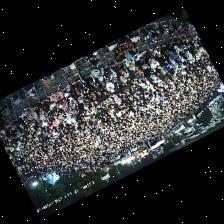person: (76, 66, 95, 86), (145, 52, 160, 70), (142, 62, 156, 78), (174, 41, 187, 58), (69, 77, 81, 94), (37, 97, 50, 111), (128, 79, 140, 94), (167, 49, 180, 62), (111, 61, 124, 74), (28, 107, 37, 124), (81, 83, 91, 98), (50, 91, 63, 102), (134, 52, 144, 66), (92, 67, 103, 79), (128, 66, 139, 77), (125, 57, 135, 69), (120, 83, 130, 95), (66, 95, 76, 107), (151, 43, 160, 56), (49, 108, 59, 119), (104, 64, 111, 79), (92, 83, 100, 96), (165, 62, 175, 72), (61, 86, 71, 96), (13, 116, 22, 127), (106, 79, 114, 91), (21, 109, 28, 122), (95, 77, 105, 86), (116, 77, 126, 86), (160, 71, 169, 81), (180, 38, 190, 47), (113, 93, 122, 103), (110, 67, 116, 82), (196, 45, 205, 55), (117, 71, 126, 81), (186, 50, 194, 61), (50, 100, 58, 111), (39, 110, 46, 122), (50, 119, 57, 131), (165, 41, 174, 50), (160, 44, 167, 55), (179, 55, 187, 64), (187, 36, 195, 45), (36, 114, 42, 125), (8, 119, 15, 128), (78, 90, 83, 102), (0, 128, 5, 138), (59, 104, 67, 110)
